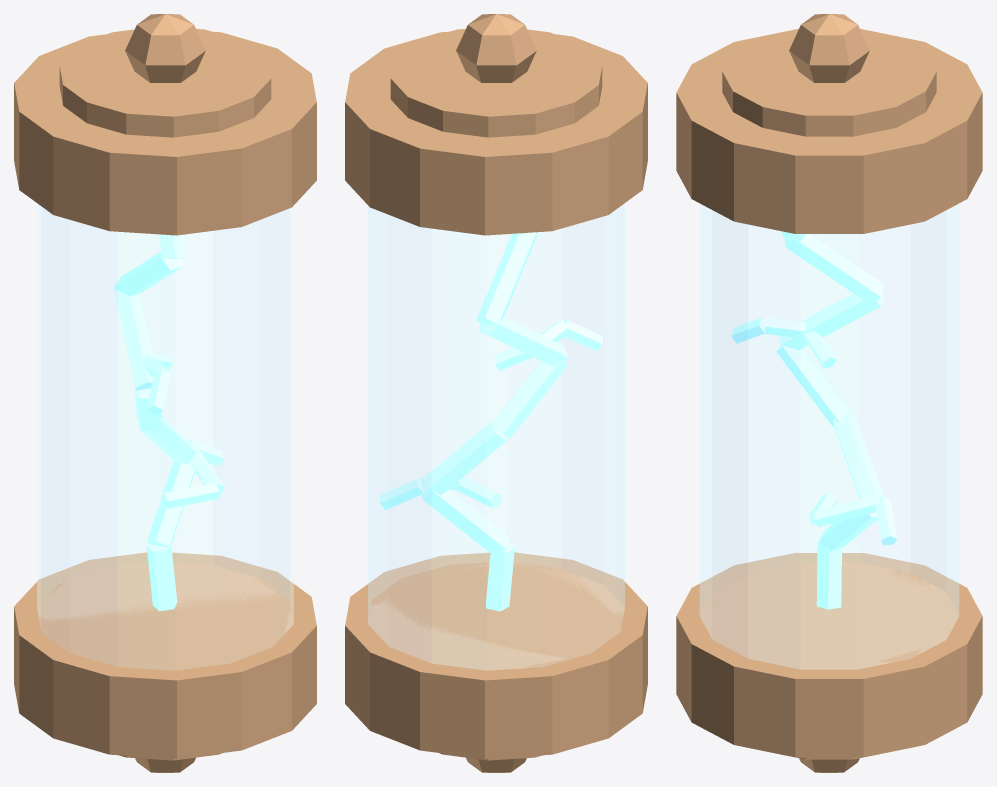
File: lightning_ammo.glb
3 views of the same model, side by side, from view 1: azimuth 30°, elevation 25°; view 2: azimuth 150°, elevation 25°; view 3: azimuth 270°, elevation 25° (orthographic).
Parts seen in each view (by area): view 1: LightningAmmo; view 2: LightningAmmo; view 3: LightningAmmo.
Boxes of the visible parts, x1=… form: LightningAmmo: x1=14, y1=14, x2=316, y2=772; LightningAmmo: x1=345, y1=14, x2=647, y2=772; LightningAmmo: x1=676, y1=14, x2=982, y2=772.
Size of the model in its own units: 0.1033 by 0.29 by 0.106.
